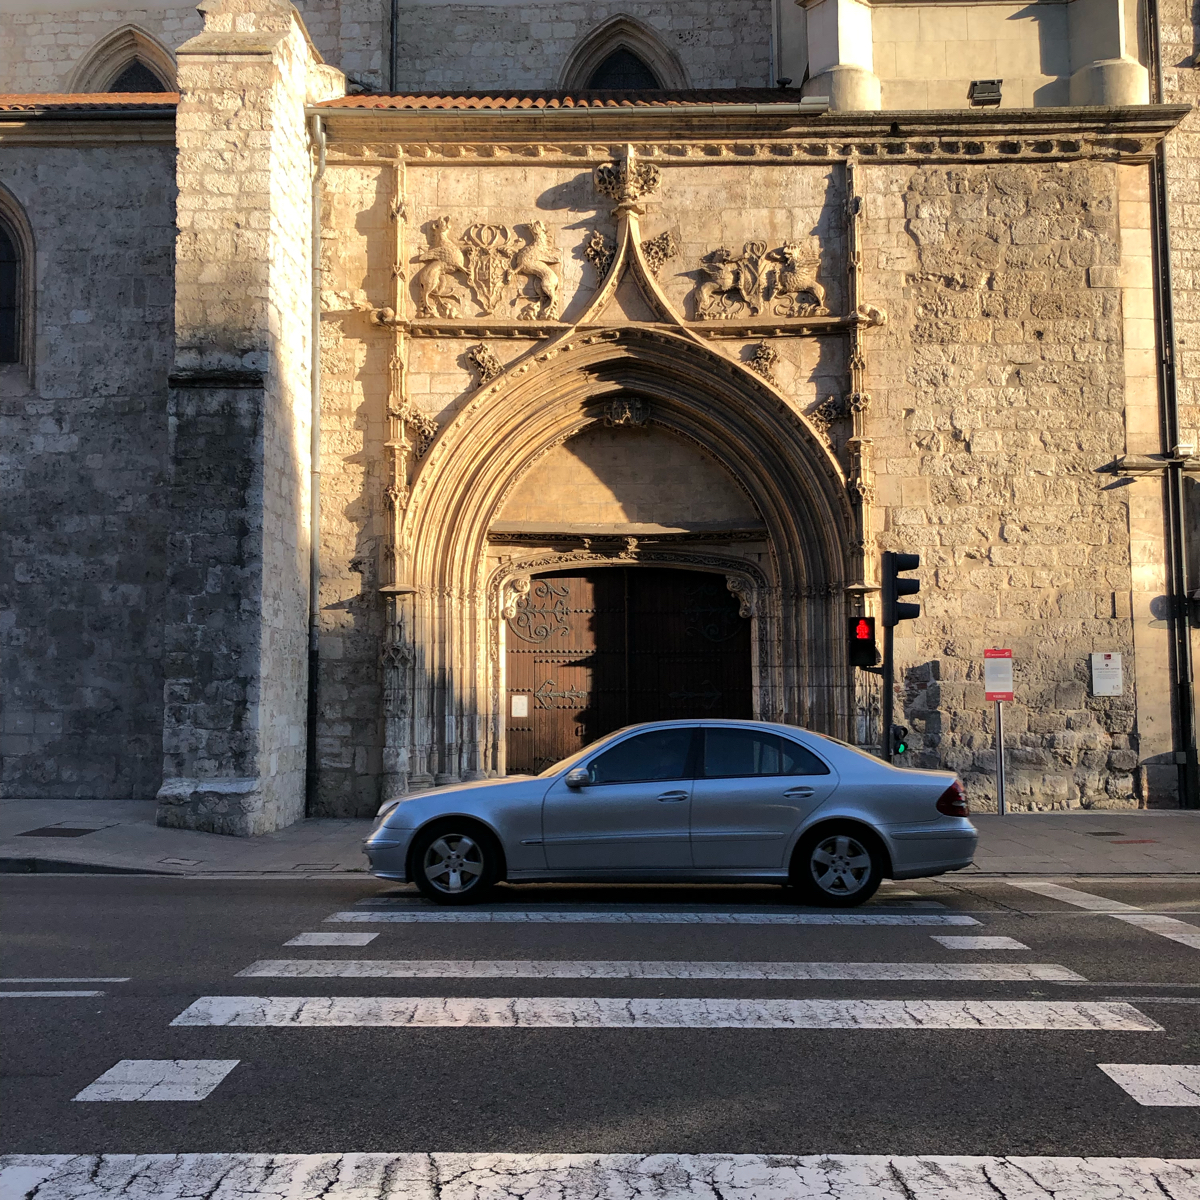arco-apuntado: (405, 338, 838, 579), (549, 9, 684, 85)
arco-conopial: (489, 214, 776, 384)
